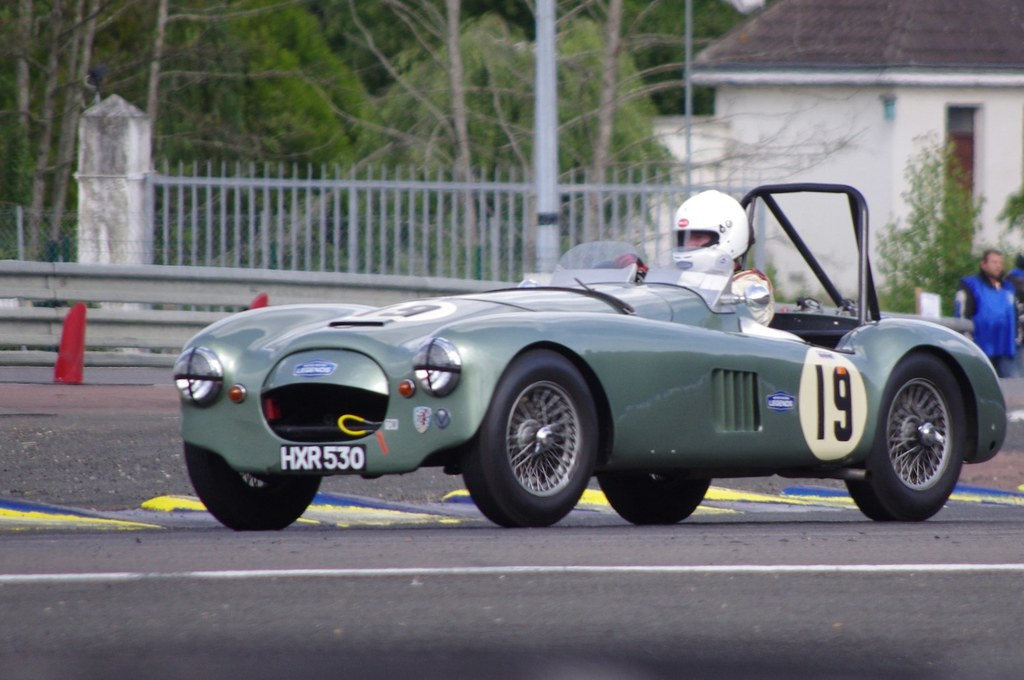mobil: (169, 234, 1009, 568)
